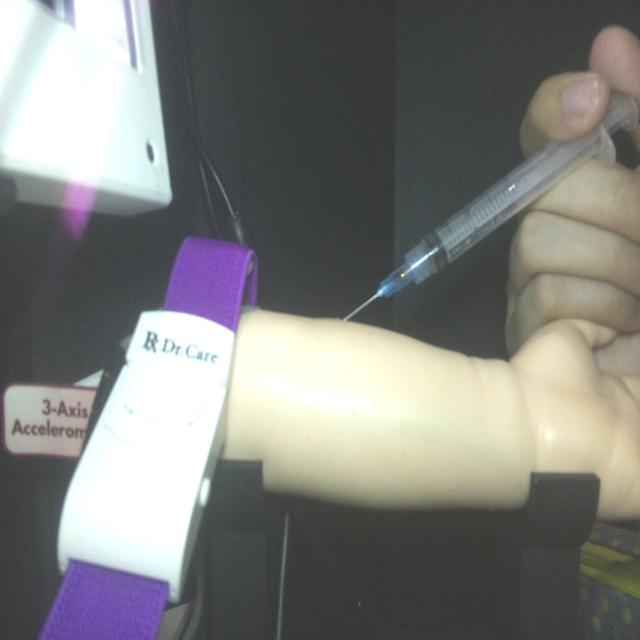29 degrees: (339, 86, 637, 324)
